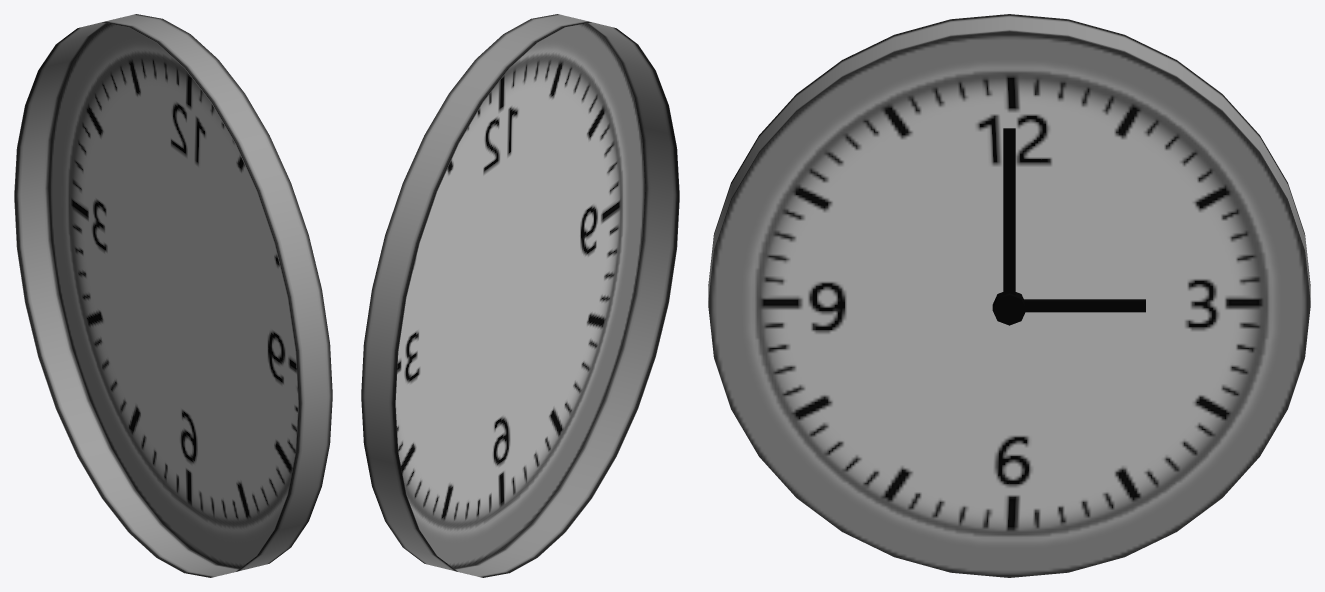
File: clock_interactive.fbx
3 views of the same model, side by side, from view 1: azimuth 30°, elevation 25°; view 2: azimuth 150°, elevation 25°; view 3: azimuth 270°, elevation 25° (orthographic). The views are drawn at different scales.
Visible parts, largest first — view 1: polySurface199; view 2: polySurface199; view 3: polySurface199, pCube9, pCube10.
Part boxes in pixels (x1,y1,x2,y2): polySurface199: (14, 14, 332, 577); polySurface199: (361, 14, 679, 577); polySurface199: (708, 14, 1310, 577); pCube9: (1003, 128, 1015, 295); pCube10: (1024, 299, 1145, 312).
Size of the model in its own units: 0.0878 by 0.9655 by 0.9655.
